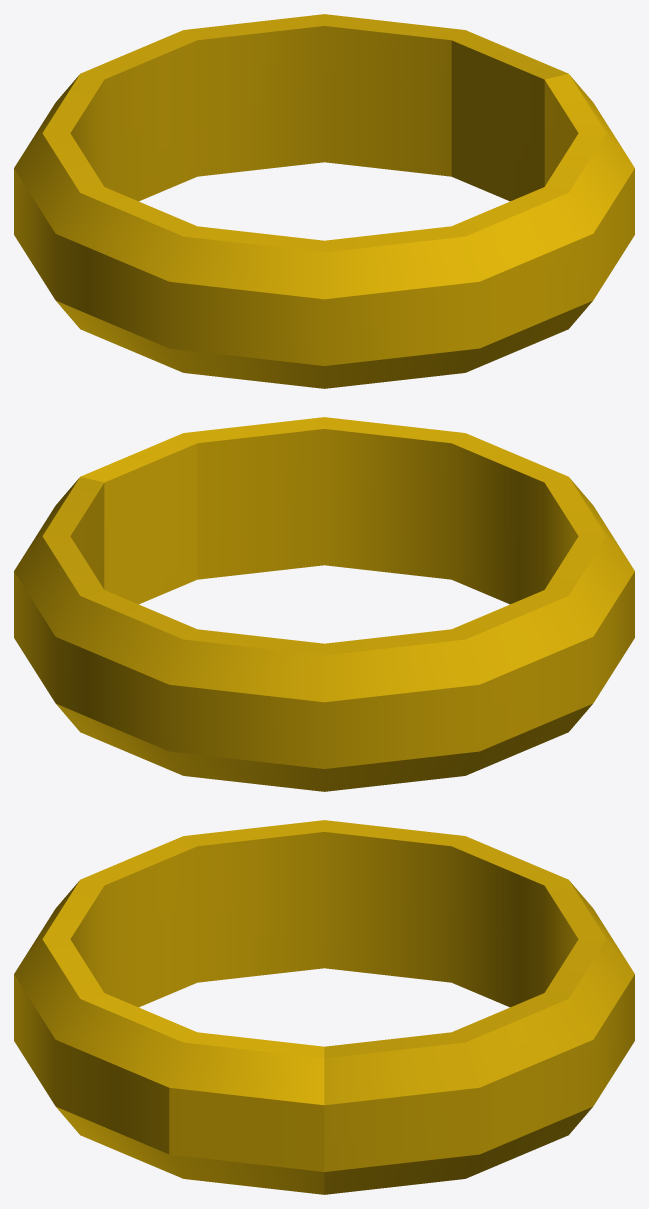
File: PROP_029_Ring.fbx
3 views of the same model, one above another, from view 1: azimuth 30°, elevation 25°; view 2: azimuth 150°, elevation 25°; view 3: azimuth 270°, elevation 25° (orthographic).
Parts seen in each view (by area): view 1: PROP_029_Ring; view 2: PROP_029_Ring; view 3: PROP_029_Ring.
Boxes of the visible parts, x1,y1,x2,y2 form: PROP_029_Ring: (14,14,634,388); PROP_029_Ring: (14,417,634,791); PROP_029_Ring: (14,820,634,1194).
Bounding box in the file's own units: 1.41 × 0.3409 × 1.41.
